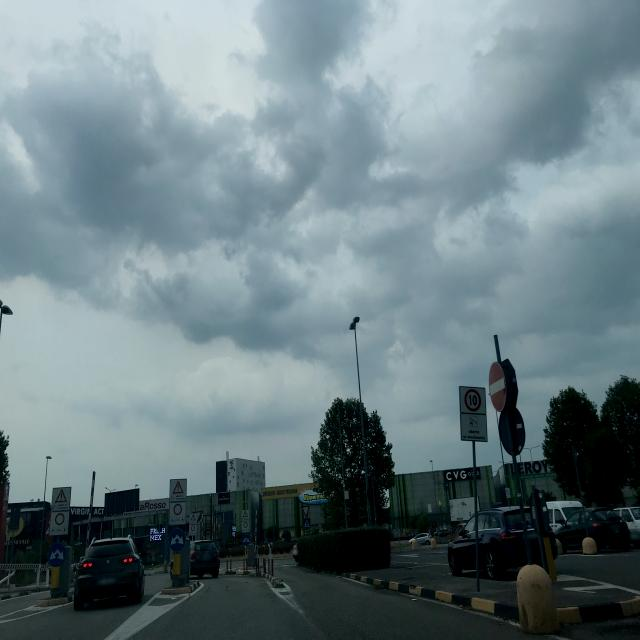car: (448, 504, 562, 578), (73, 536, 145, 610), (556, 507, 630, 553), (611, 506, 640, 548), (189, 540, 220, 578), (544, 500, 584, 525), (411, 532, 432, 546)
